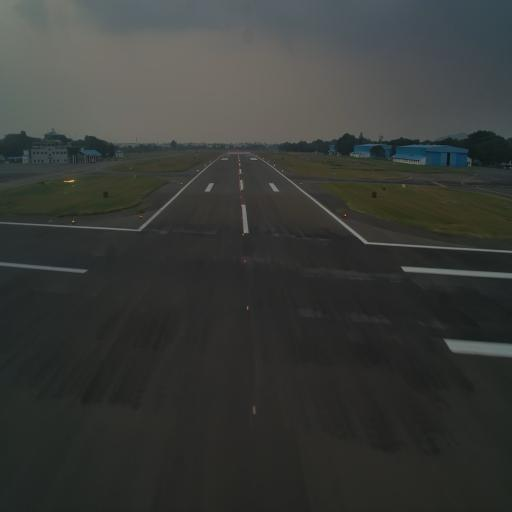on: (244, 302, 250, 314), (241, 230, 246, 239), (70, 218, 76, 225), (138, 213, 144, 220), (242, 257, 247, 265), (240, 213, 244, 221), (343, 211, 347, 218)
